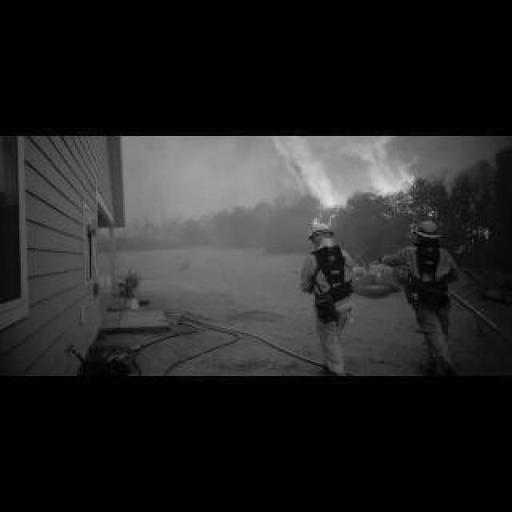smoke: (270, 136, 358, 227), (358, 138, 432, 212)
